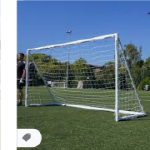goals: (24, 32, 150, 126)
